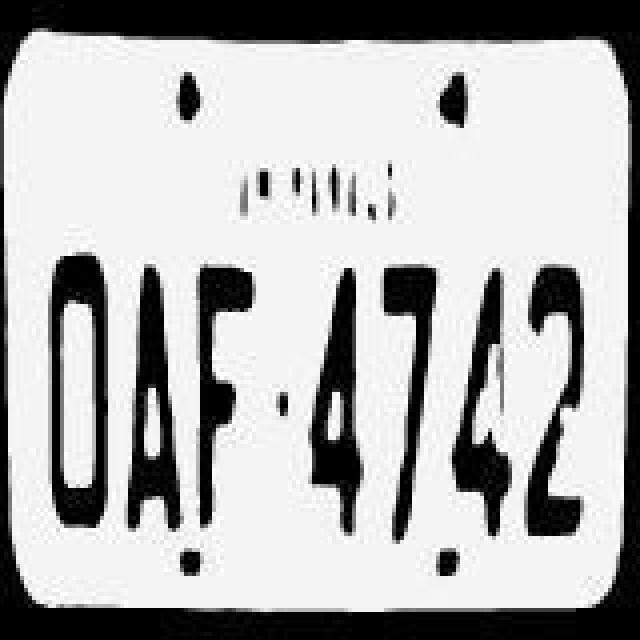2: (522, 262, 598, 554)
4: (298, 250, 374, 534), (446, 252, 514, 548)
7: (374, 254, 442, 546)
A: (120, 252, 184, 532)
F: (188, 250, 260, 534)
O: (28, 238, 116, 530)
